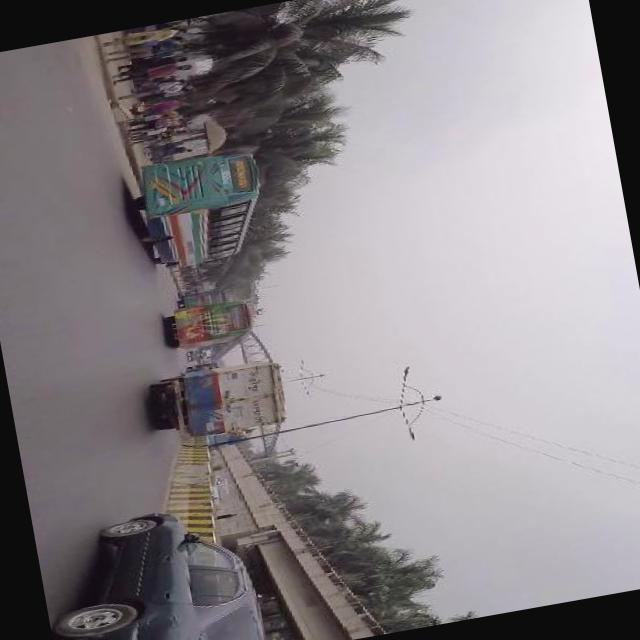bus: (125, 145, 274, 274), (163, 296, 258, 352), (176, 287, 228, 309)
car: (49, 494, 270, 640), (208, 472, 234, 506)
motorcycle: (187, 346, 214, 361)
truck: (145, 355, 294, 444)
